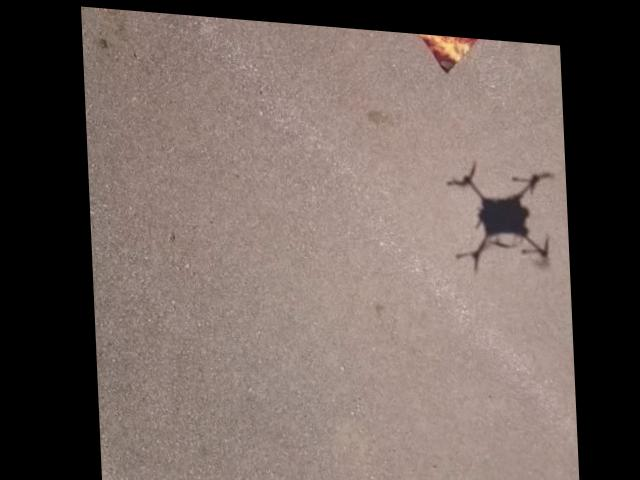fire-poster: (376, 24, 533, 72)
